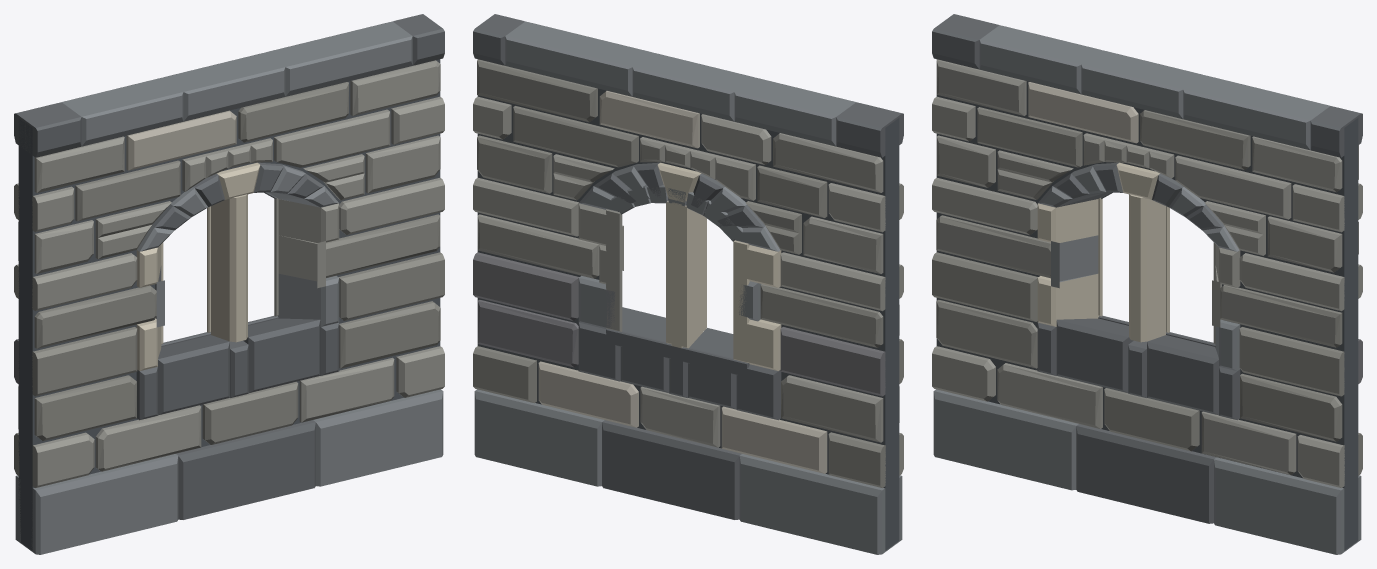
The model's file is SM_LPD_Struct_WallWindowTwin_01.fbx.
3 renders of one model, left to right at view 1: azimuth 30°, elevation 25°; view 2: azimuth 150°, elevation 25°; view 3: azimuth 330°, elevation 25°, orthographic.
Visible parts, largest first — view 1: SM_LPD_Struct_WallWindowTwin_01; view 2: SM_LPD_Struct_WallWindowTwin_01; view 3: SM_LPD_Struct_WallWindowTwin_01.
Part boxes in pixels (bbox=[...]): SM_LPD_Struct_WallWindowTwin_01: bbox=[14, 14, 444, 554]; SM_LPD_Struct_WallWindowTwin_01: bbox=[473, 14, 903, 554]; SM_LPD_Struct_WallWindowTwin_01: bbox=[932, 14, 1362, 554].
Size of the model in its own units: 4 by 4 by 0.4.
